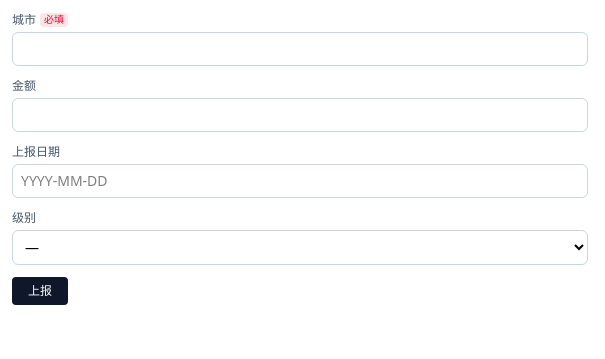
it: FormRuntime（console 态：corrections 提交） › 类型错前端先拦：number 非数字 / date 带时间部分 / select 越选项
This screenshot has width=605, height=359.
Type "沪" into the field with test id "form-field-input" showing "城市 必填" at (300, 49), box [12, 32, 588, 66]
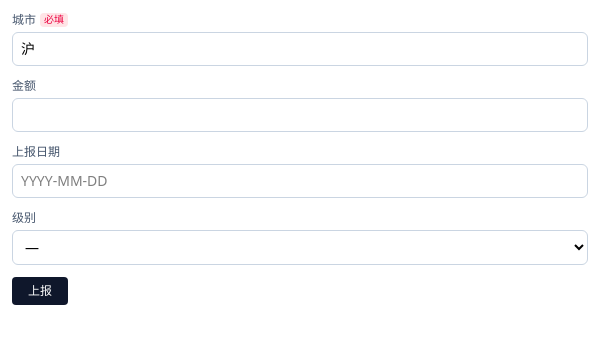
Type "abc" into the field with test id "form-field-input" showing "金额" at (300, 115), box [12, 98, 588, 132]
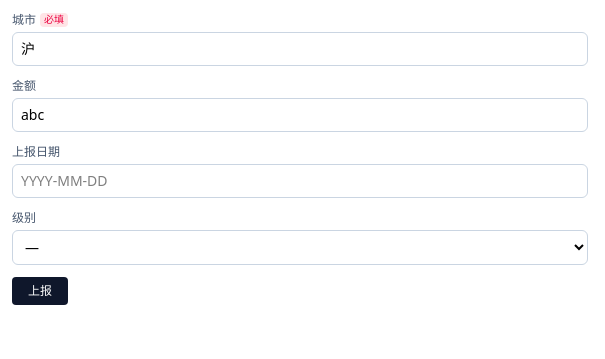
Type "2026-10-12T09:00" into the field with test id "form-field-input" showing "上报日期" at (300, 181), box [12, 164, 588, 198]
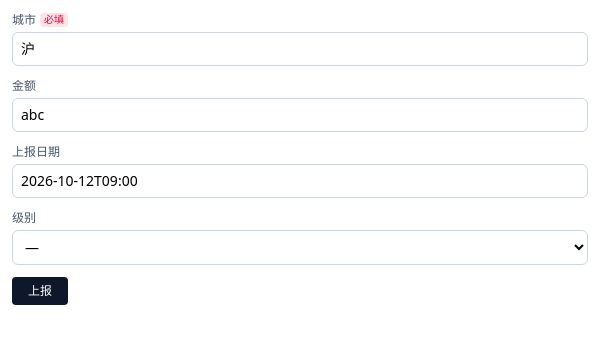
Click the button with test id "form-submit" at (40, 291), box [12, 277, 68, 305]
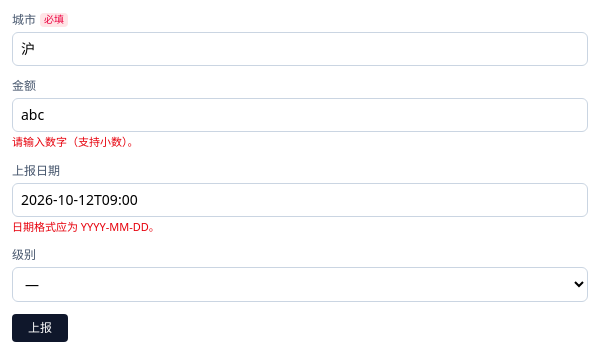
Expected: the text with test id "form-field-error" shows "数字", [12, 134, 138, 149]
Expected: the text with test id "form-field-error" shows "YYYY-MM-DD", [12, 218, 160, 234]
